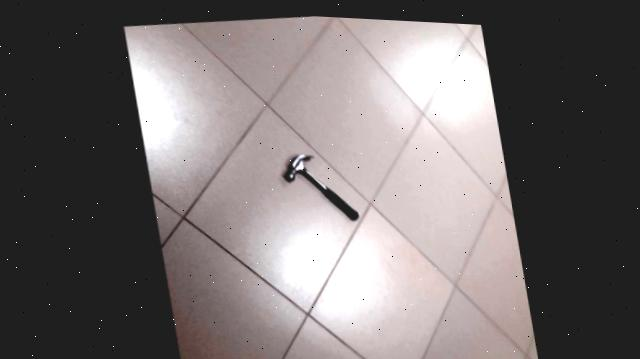hammer: (266, 140, 359, 231)
